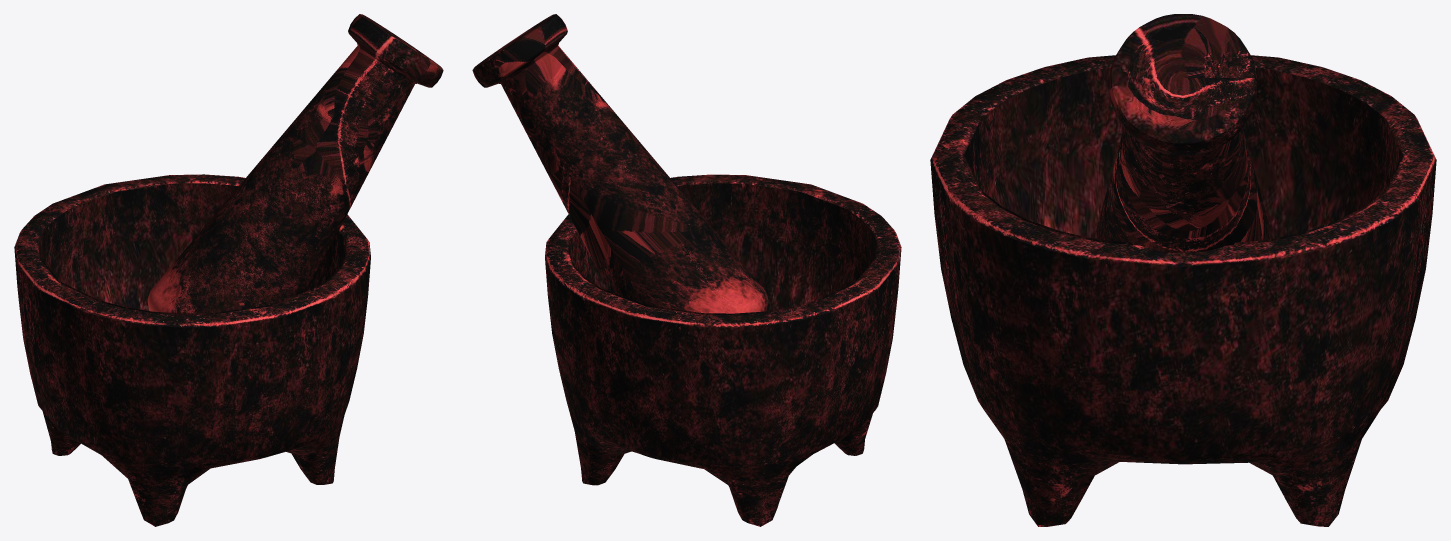
The model's file is Bowl1.fbx.
3 views of the same model, side by side, from view 1: azimuth 30°, elevation 25°; view 2: azimuth 150°, elevation 25°; view 3: azimuth 270°, elevation 25° (orthographic). The views are drawn at different scales.
Parts seen in each view (by area): view 1: Bowl1, Pestle1; view 2: Bowl1, Pestle1; view 3: Bowl1, Pestle1.
Part boxes in pixels (box(x1,y1,x2,y2)): Bowl1: box(14, 174, 370, 526); Pestle1: box(147, 14, 443, 313); Bowl1: box(545, 174, 901, 526); Pestle1: box(472, 14, 768, 313); Bowl1: box(930, 55, 1436, 526); Pestle1: box(1094, 14, 1272, 252).
Size of the model in its own units: 466 by 456 by 363.
